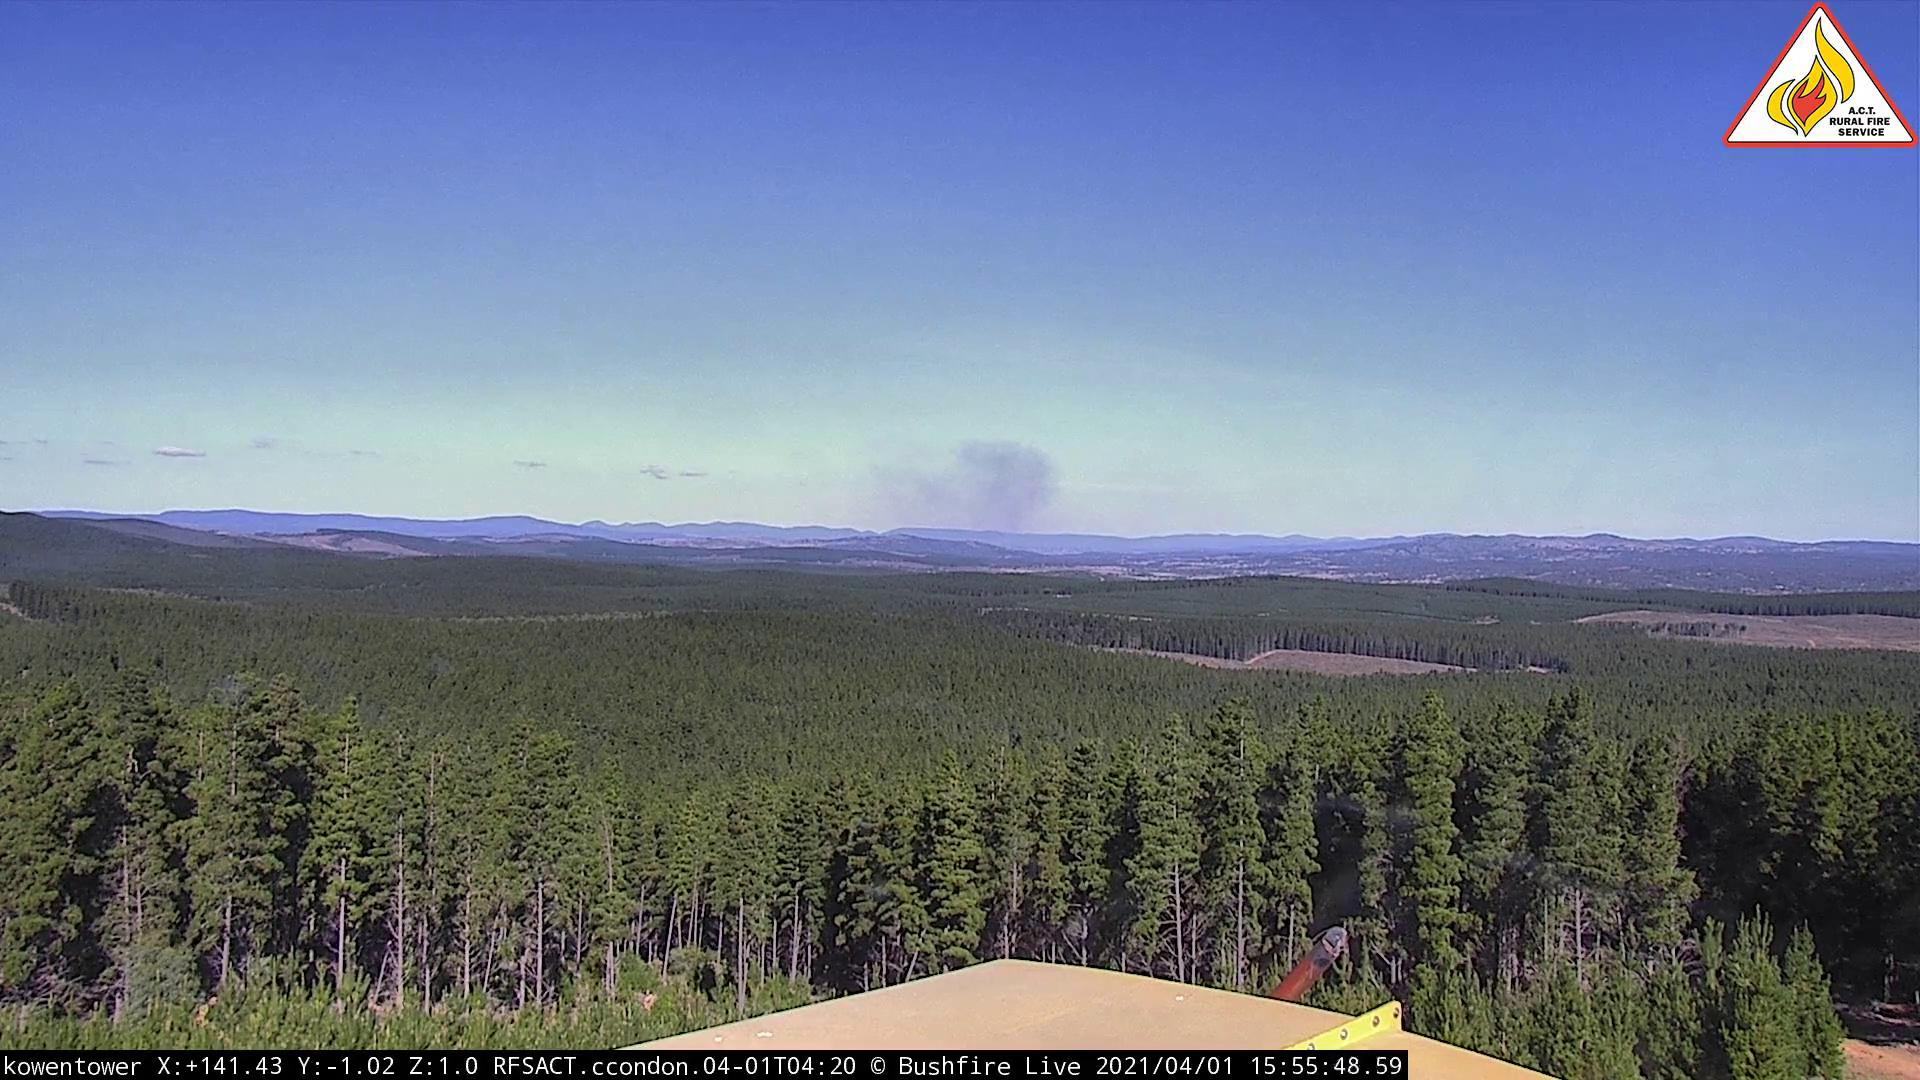Smoke: (866, 429, 1073, 553)
